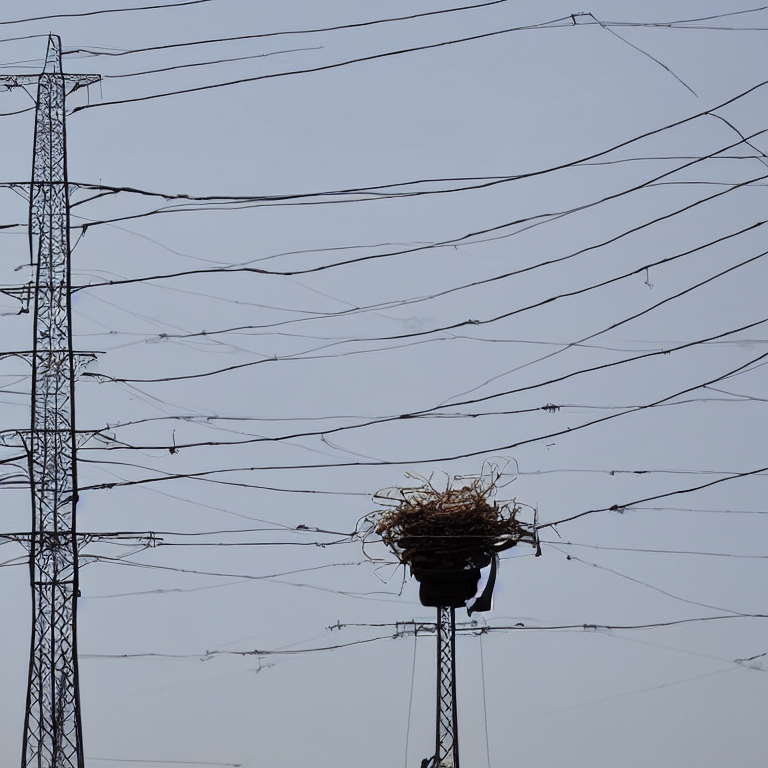nest: (376, 486, 523, 573)
